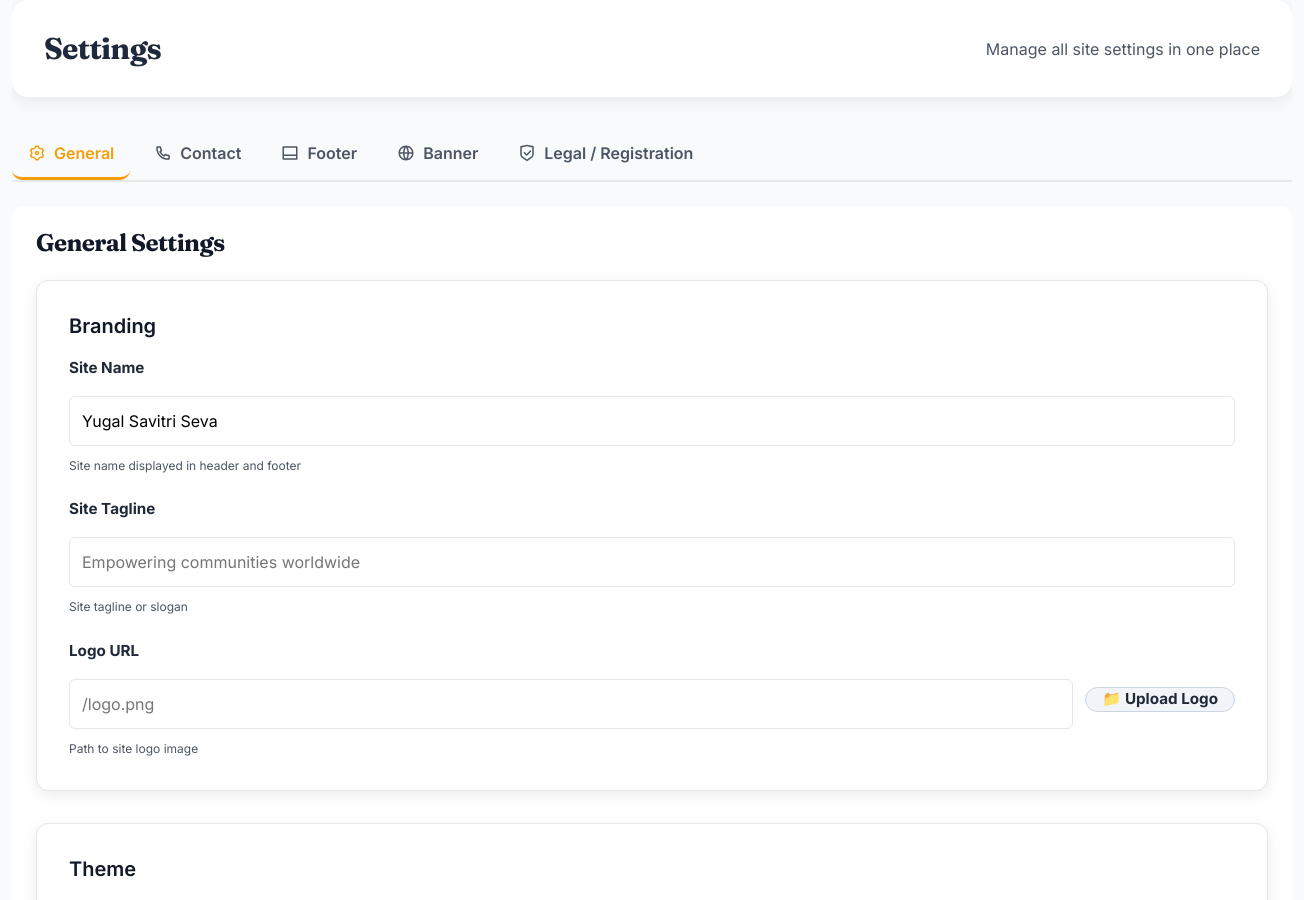
Test: AdminSettingsConsolidated › switches to Contact tab and shows contact form
This screenshot has width=1304, height=900.
Expected: the heading "General Settings" is shown, [36, 228, 225, 257]
Click the button with test id "settings-tab-contact" at point(198, 154), box [138, 129, 258, 180]
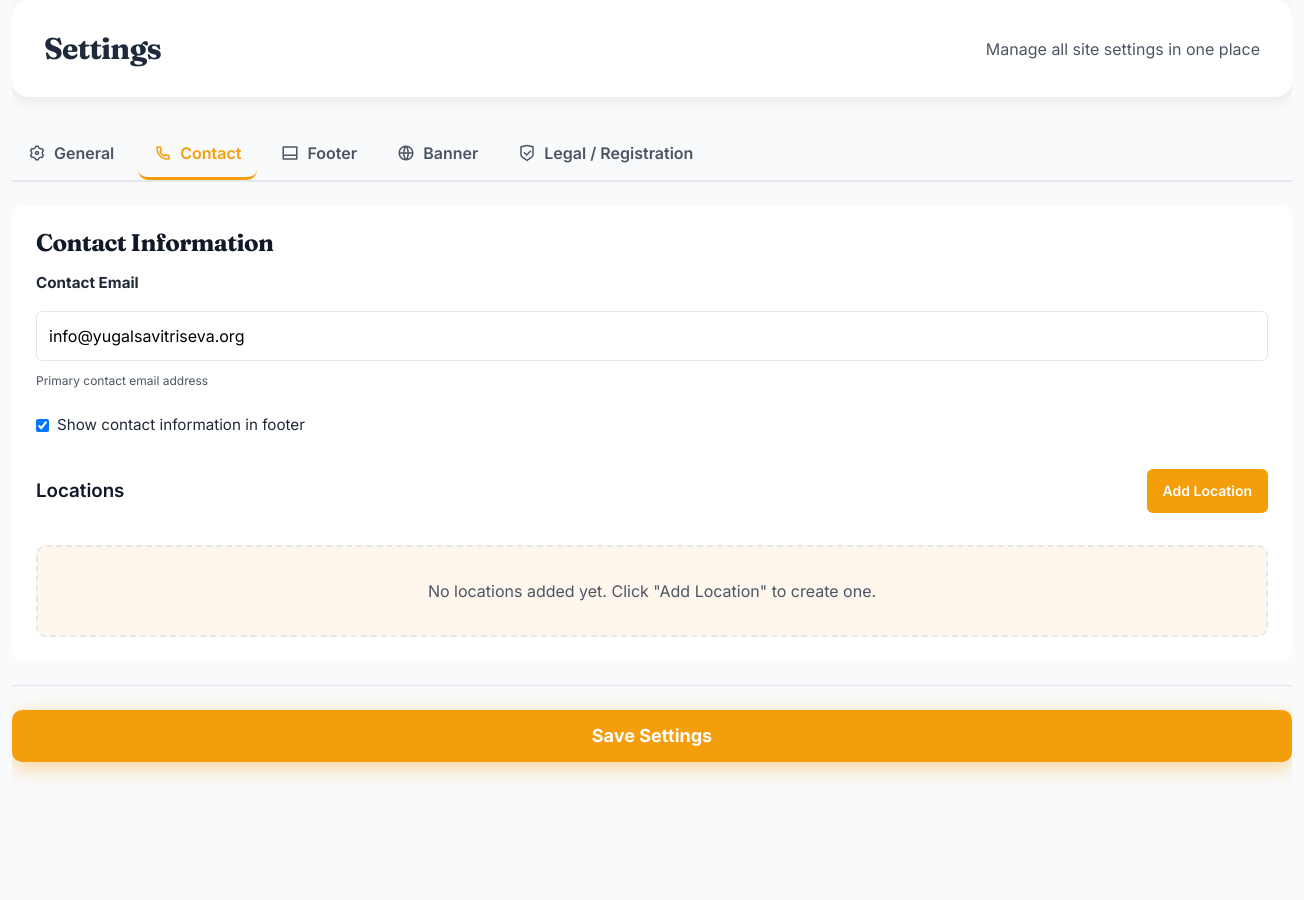
Expected: the heading "Contact Information" is shown, [36, 228, 273, 257]
